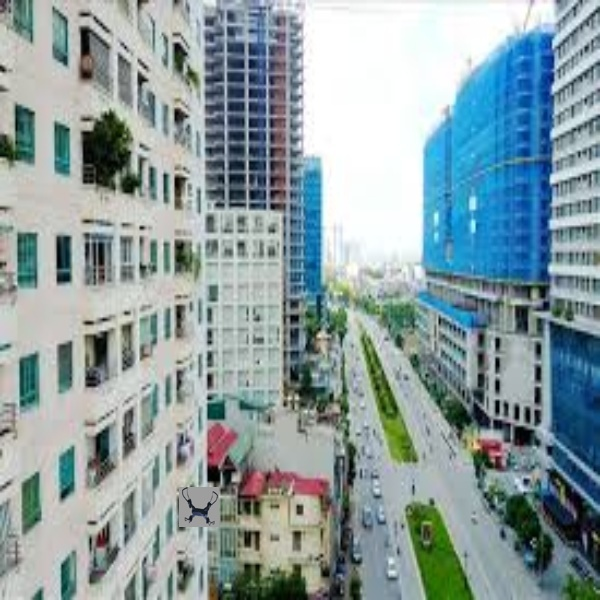drone: (176, 486, 219, 529)
